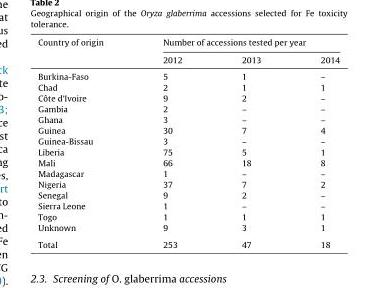table: (37, 36, 339, 249)
table column: (37, 36, 132, 249), (132, 36, 211, 249), (211, 36, 290, 249), (290, 36, 339, 249)
table column header: (37, 36, 339, 67)
table row: (37, 50, 339, 67), (37, 36, 339, 50), (37, 67, 339, 81), (37, 221, 339, 235), (37, 235, 339, 249), (37, 81, 339, 92), (37, 102, 339, 113), (37, 113, 339, 124), (37, 124, 339, 135), (37, 135, 339, 146), (37, 156, 339, 167), (37, 167, 339, 178), (37, 178, 339, 189), (37, 189, 339, 200), (37, 210, 339, 221), (37, 92, 339, 102), (37, 146, 339, 156), (37, 200, 339, 210)
table spanning cell: (37, 36, 132, 67), (132, 36, 339, 50)
